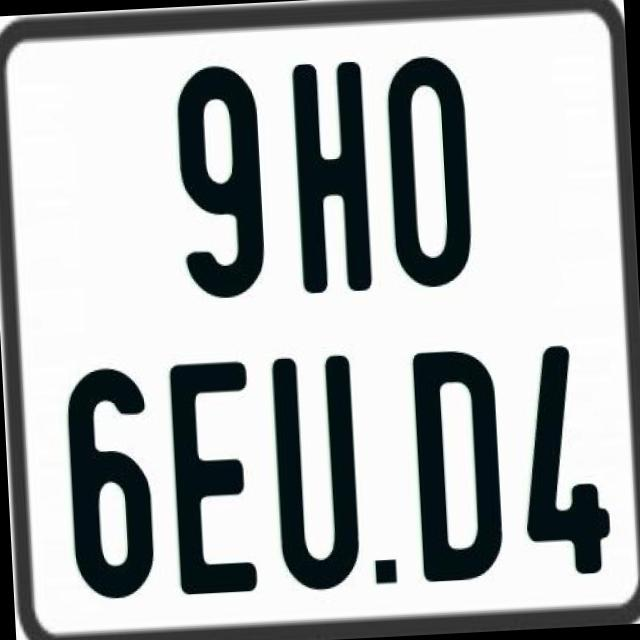0: (385, 49, 475, 288)
4: (518, 343, 618, 581)
6: (61, 365, 157, 602)
9: (173, 59, 273, 303)
D: (411, 344, 511, 578)
E: (167, 358, 258, 592)
H: (290, 60, 374, 298)
U: (267, 350, 358, 594)
